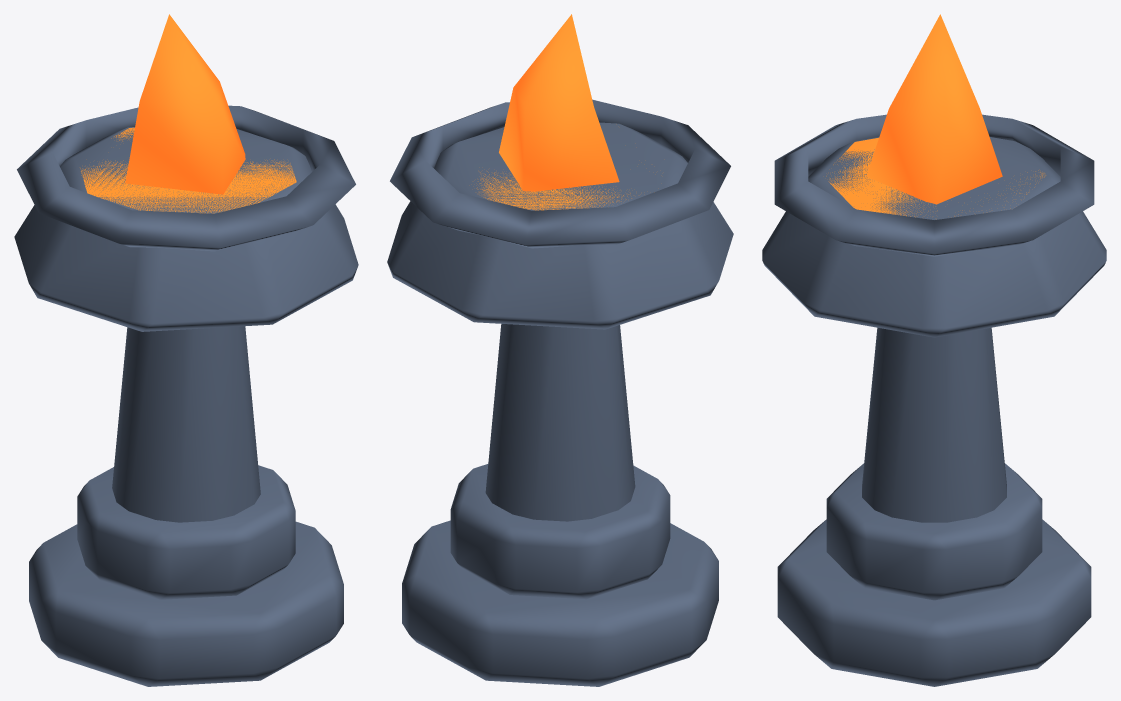
Rendered from FortressBrazier.fbx.
3 views of the same model, side by side, from view 1: azimuth 30°, elevation 25°; view 2: azimuth 150°, elevation 25°; view 3: azimuth 270°, elevation 25° (orthographic). The views are drawn at different scales.
Parts seen in each view (by area): view 1: FortressBrazier_Mesh; view 2: FortressBrazier_Mesh; view 3: FortressBrazier_Mesh.
Part boxes in pixels (x1,y1,x2,y2): FortressBrazier_Mesh: (14,14,358,686); FortressBrazier_Mesh: (387,14,733,686); FortressBrazier_Mesh: (762,14,1106,686).
Size of the model in its own units: 1.31 by 2.54 by 1.31.
